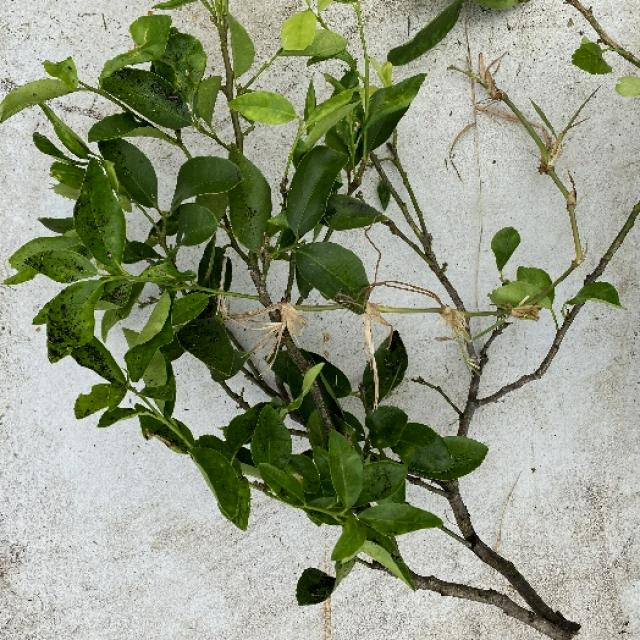wet: (243, 395, 444, 591), (224, 6, 383, 227), (113, 25, 282, 166), (120, 400, 247, 526), (482, 231, 624, 336), (95, 284, 215, 398), (166, 144, 272, 260), (99, 19, 208, 130), (73, 160, 126, 275), (2, 58, 86, 127), (39, 277, 105, 361), (386, 0, 468, 66), (97, 137, 164, 214), (5, 236, 97, 284), (403, 433, 490, 480), (277, 5, 348, 60), (573, 32, 640, 88), (361, 329, 407, 408), (488, 266, 556, 318), (130, 258, 195, 304), (37, 106, 91, 160), (222, 403, 268, 460), (256, 461, 310, 508), (124, 13, 174, 59), (171, 202, 219, 249), (388, 421, 443, 462), (224, 10, 254, 85), (73, 382, 130, 421), (364, 404, 410, 450), (286, 360, 326, 412), (294, 566, 338, 606), (168, 290, 210, 330), (490, 226, 520, 277), (47, 160, 87, 194), (41, 56, 79, 90), (36, 217, 75, 236), (2, 266, 39, 286)
